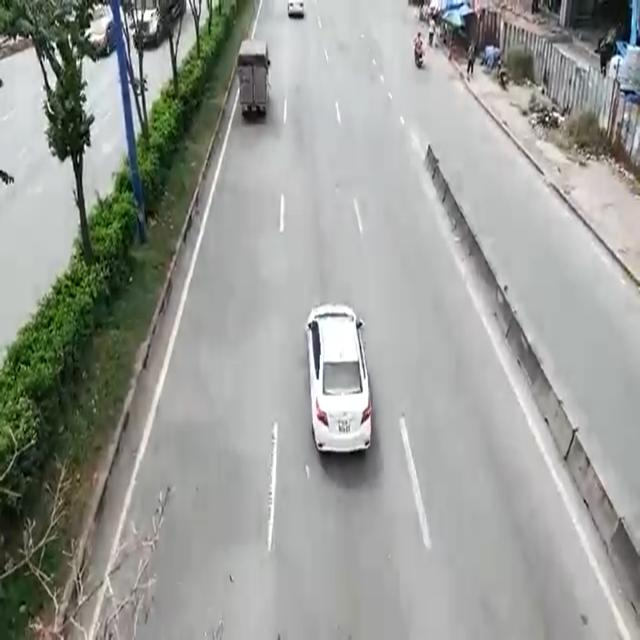truck: (299, 287, 380, 482), (235, 26, 274, 127)
